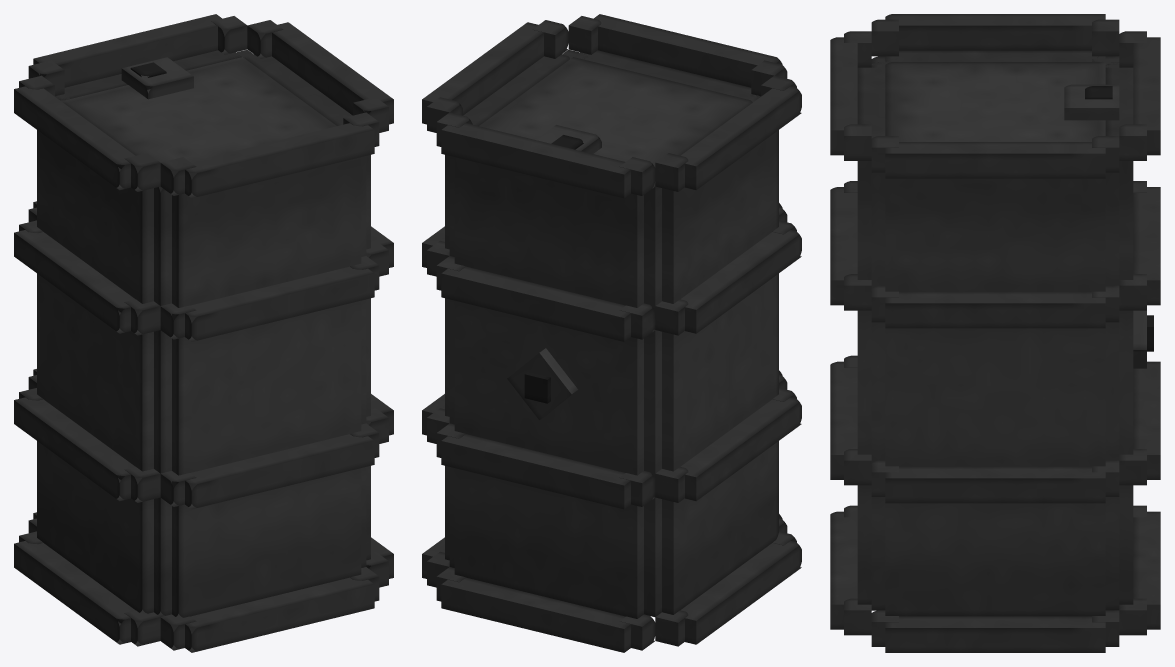
File: barrel.obj
The picture shows the model from 3 angles, left to right: view 1: azimuth 30°, elevation 25°; view 2: azimuth 150°, elevation 25°; view 3: azimuth 270°, elevation 25°; orthographic projection. The views are drawn at different scales.
Parts seen in each view (by area): view 1: baseModel1, baseModel25, baseModel10, baseModel0, baseModel8, baseModel7, baseModel9, baseModel33, baseModel19, baseModel22, baseModel24, baseModel21 (+18 smaller); view 2: baseModel20, baseModel25, baseModel10, baseModel17, baseModel16, baseModel19, baseModel18, baseModel52, baseModel9, baseModel22, baseModel24, baseModel21 (+20 smaller); view 3: baseModel15, baseModel10, baseModel12, baseModel13, baseModel11, baseModel14, baseModel1, baseModel24, baseModel20, baseModel34, baseModel43, baseModel16 (+30 smaller).
Part boxes in pixels (x1,y1,x2,y2): baseModel1: (172, 157, 361, 617); baseModel25: (37, 130, 162, 613); baseModel10: (61, 57, 336, 162); baseModel0: (178, 577, 374, 652); baseModel8: (178, 266, 374, 341); baseModel7: (185, 434, 374, 509); baseModel9: (185, 123, 374, 198); baseModel33: (154, 187, 171, 616); baseModel19: (33, 14, 229, 87); baseModel22: (14, 397, 142, 501); baseModel24: (14, 86, 142, 190); baseModel21: (14, 541, 142, 644); baseModel20: (454, 157, 643, 618); baseModel25: (662, 130, 778, 614); baseModel10: (479, 57, 752, 167); baseModel17: (441, 434, 630, 509); baseModel16: (441, 577, 630, 652); baseModel19: (441, 123, 630, 198); baseModel18: (441, 266, 630, 341); baseModel52: (644, 182, 661, 616); baseModel9: (594, 14, 782, 87); baseModel22: (680, 397, 801, 501); baseModel24: (680, 86, 801, 190); baseModel21: (681, 541, 801, 644); baseModel15: (885, 178, 1105, 616); baseModel10: (885, 62, 1105, 141); baseModel12: (885, 466, 1105, 503); baseModel13: (885, 292, 1105, 328); baseModel11: (885, 616, 1105, 652); baseModel14: (885, 142, 1105, 178); baseModel1: (857, 62, 885, 604); baseModel24: (885, 14, 1105, 50); baseModel20: (1105, 62, 1133, 604); baseModel34: (871, 172, 885, 610); baseModel43: (1105, 172, 1119, 610); baseModel16: (1133, 511, 1160, 629).
Bounding box in the file's own units: 12 × 20.01 × 12.
